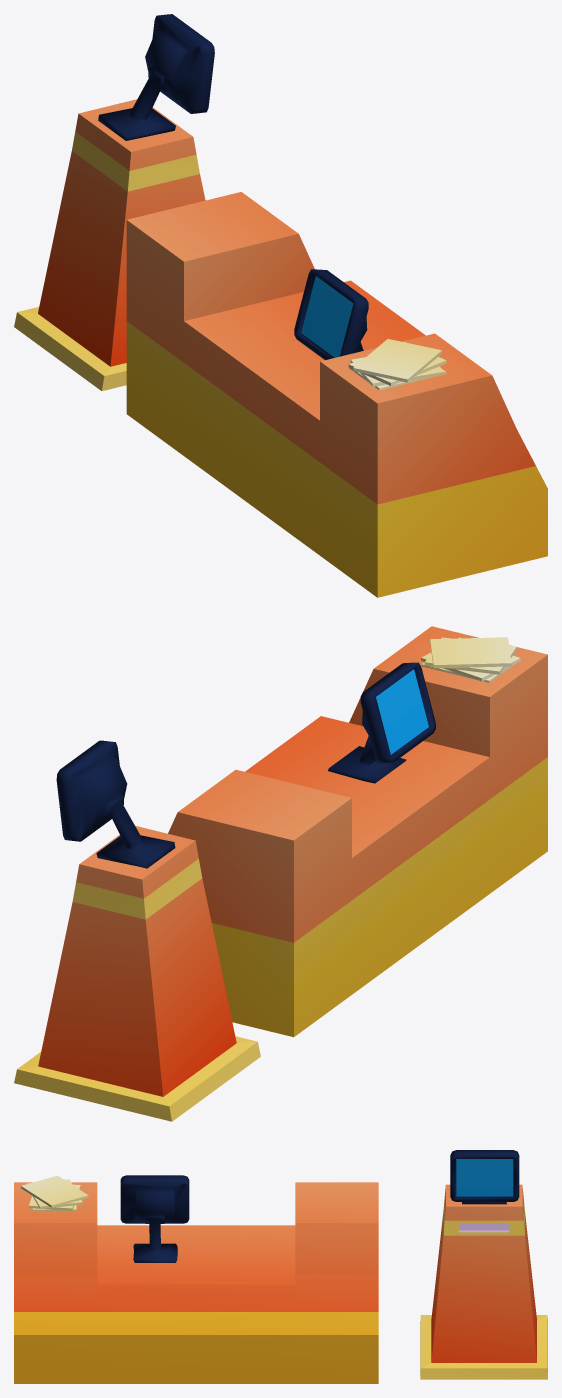
File: Checkout.fbx
3 renders of one model, top to bottom at view 1: azimuth 30°, elevation 25°; view 2: azimuth 150°, elevation 25°; view 3: azimuth 270°, elevation 25°, orthographic. The views are drawn at different scales.
Parts seen in each view (by area): view 1: checkout; view 2: checkout; view 3: checkout.
Part boxes in pixels (x1,y1,x2,y2): checkout: [14, 14, 547, 597]; checkout: [14, 626, 547, 1121]; checkout: [14, 1150, 547, 1383].
Bounding box in the file's own units: 352 × 580 × 1287.
